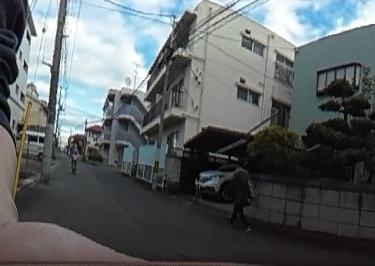person: (226, 159, 255, 232), (69, 141, 79, 172)
